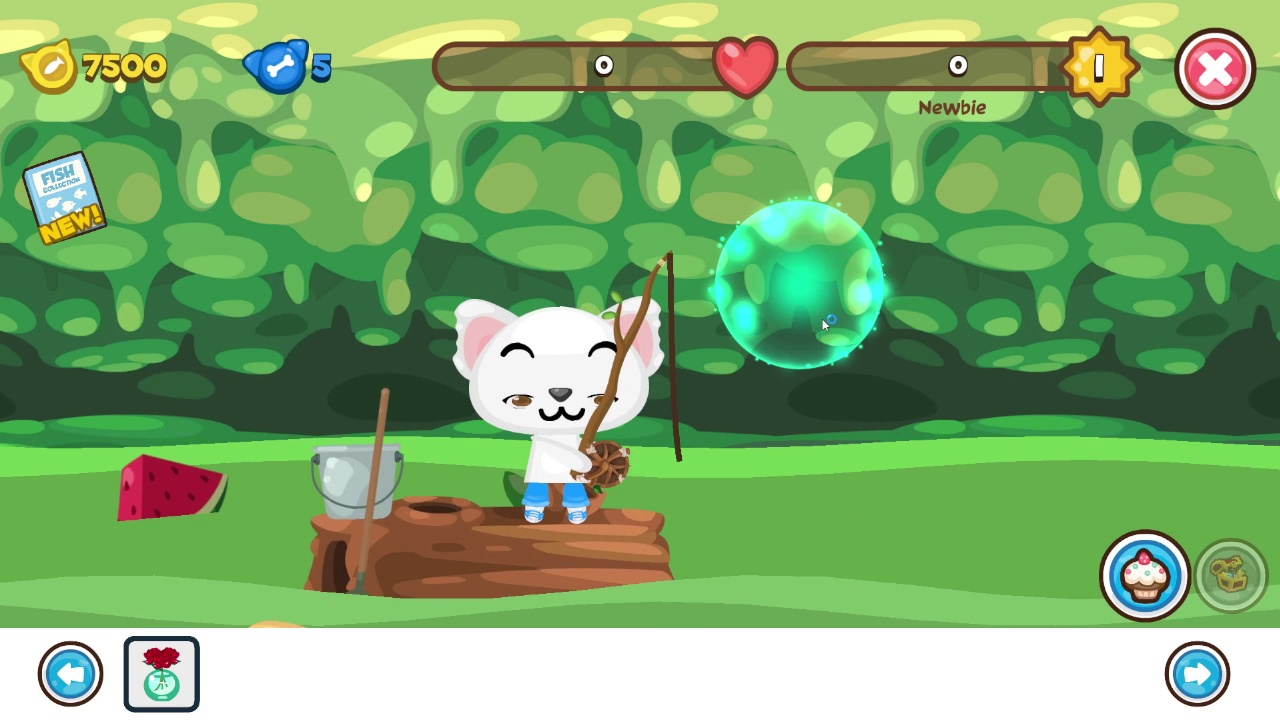point: (715, 199, 888, 371)
